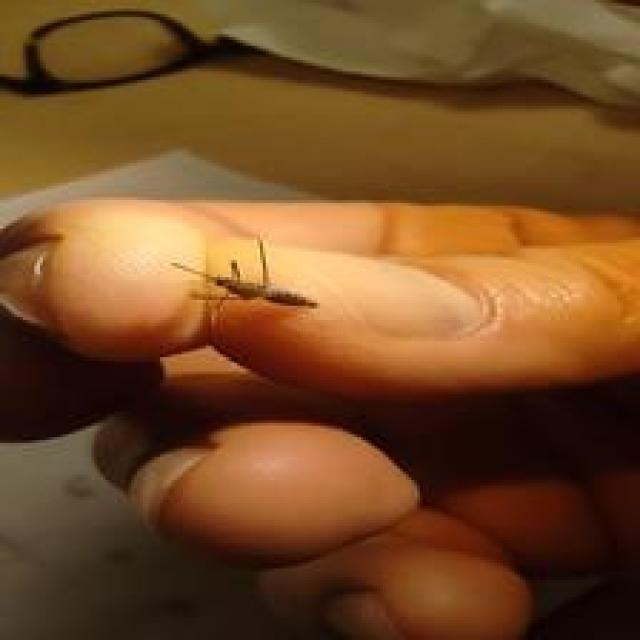Culex: (170, 236, 319, 313)
